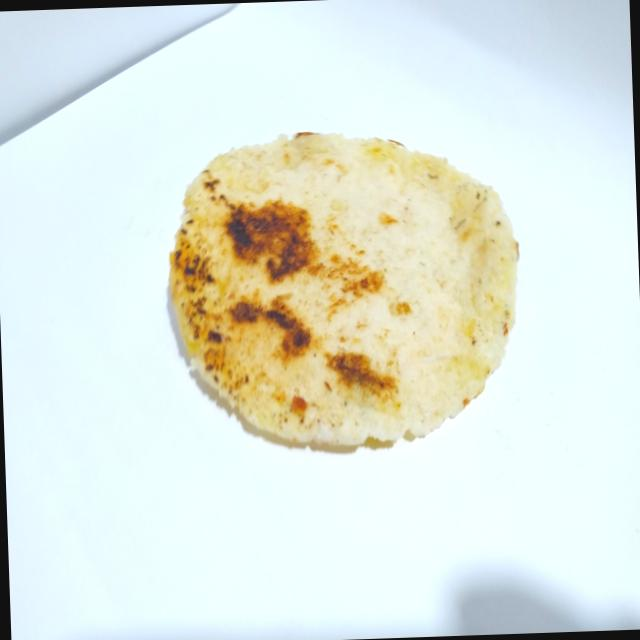Mbeju: (156, 104, 533, 468)
